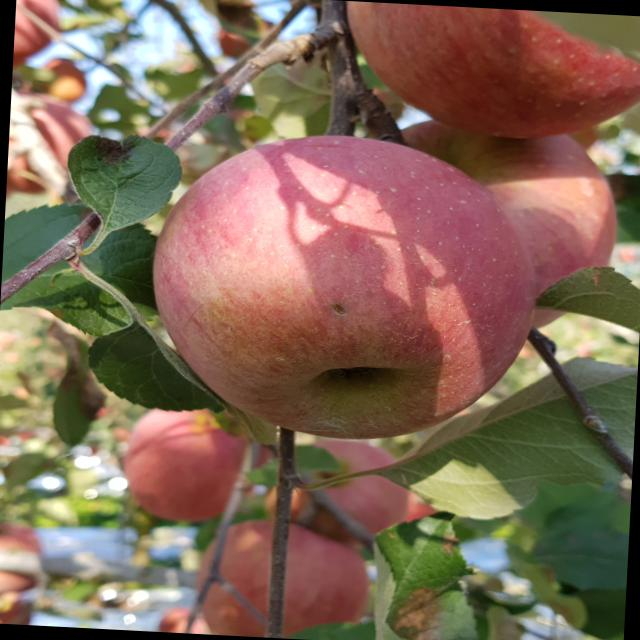fresh: (131, 118, 553, 461)
